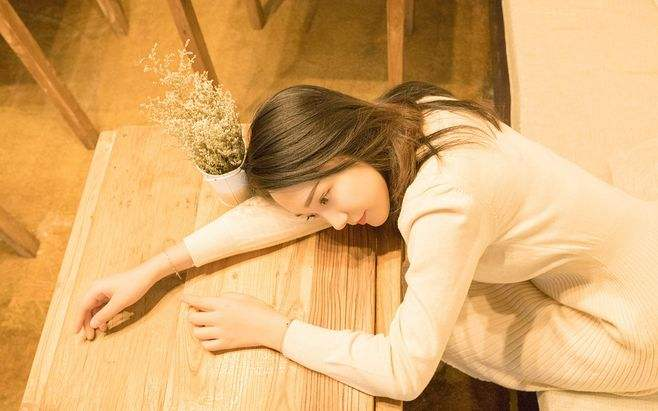person: (252, 76, 658, 377)
